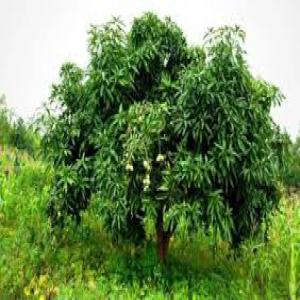Tree: (40, 10, 284, 262)
